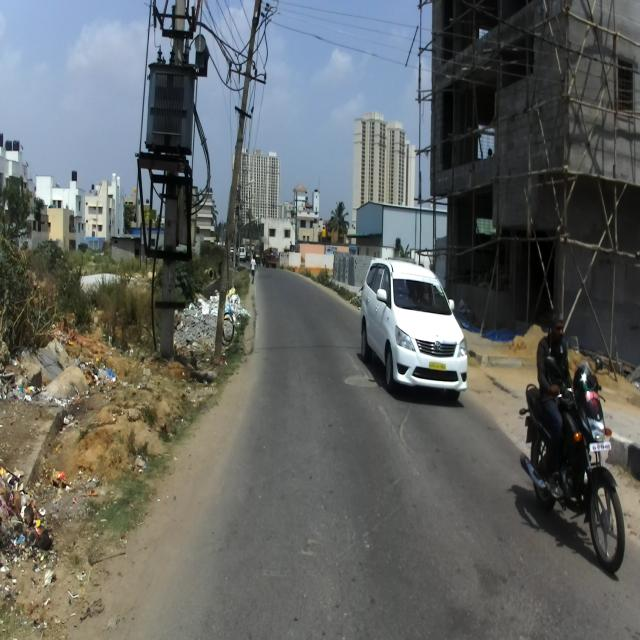car ahead at: (362, 257, 470, 398)
electric pole ahead at: (136, 0, 200, 351)
motorcycle ahead at: (524, 370, 628, 577)
